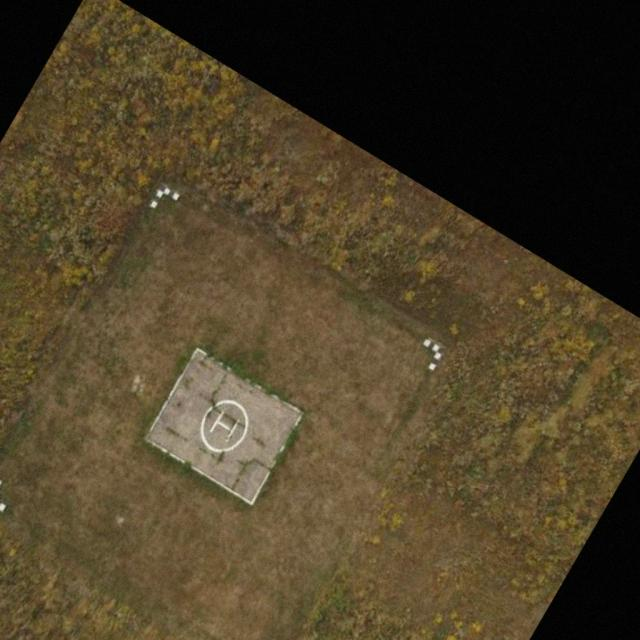helipad: (198, 398, 250, 453)
